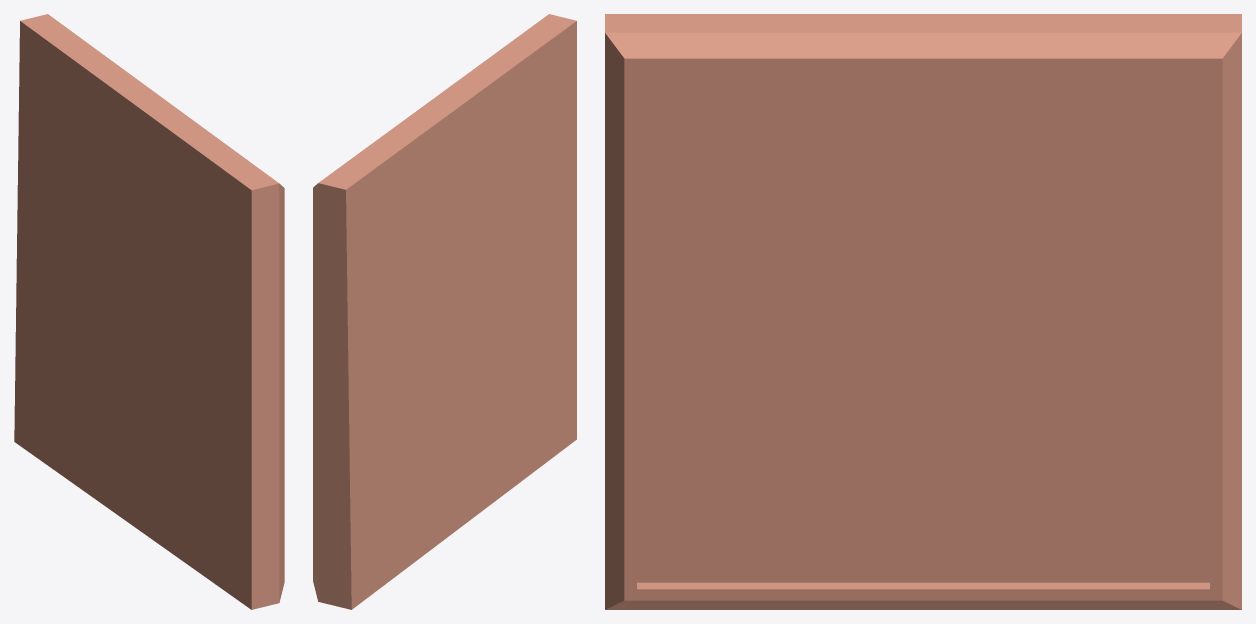
Rendered from painting.glb.
The picture shows the model from 3 angles, left to right: view 1: azimuth 30°, elevation 25°; view 2: azimuth 150°, elevation 25°; view 3: azimuth 270°, elevation 25°; orthographic projection. The views are drawn at different scales.
Parts seen in each view (by area): view 1: Cube; view 2: Cube; view 3: Cube.
Part boxes in pixels (x1=…): Cube: x1=14, y1=14, x2=284, y2=609; Cube: x1=313, y1=14, x2=576, y2=609; Cube: x1=605, y1=14, x2=1241, y2=609.
Bounding box in the file's own units: 0.2286 × 2 × 2.
